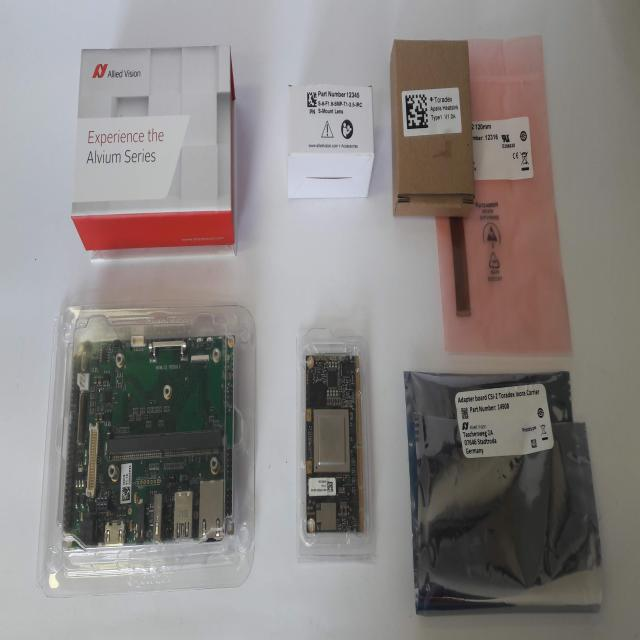som: (304, 349, 370, 542)
